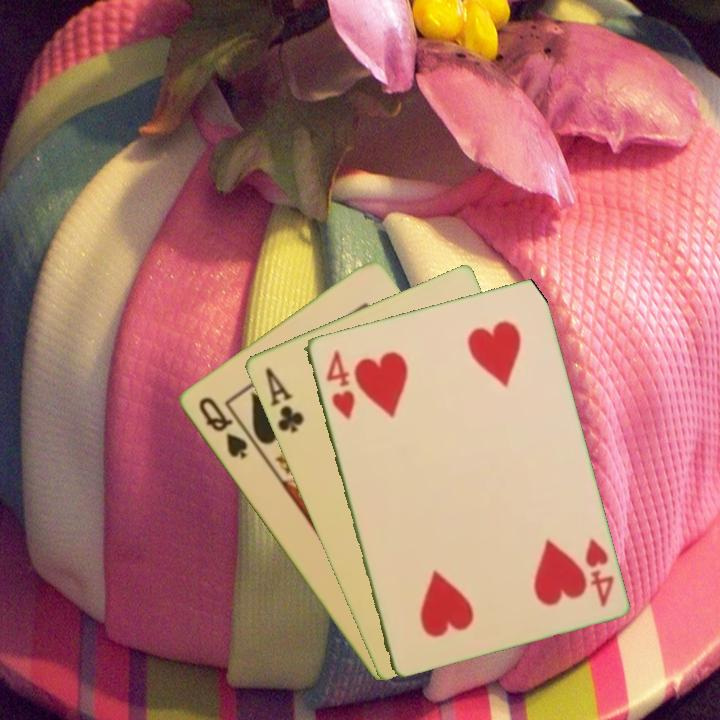4h: (322, 346, 358, 423), (581, 535, 617, 609)
Ac: (261, 363, 306, 436)
Qs: (194, 393, 250, 462)
